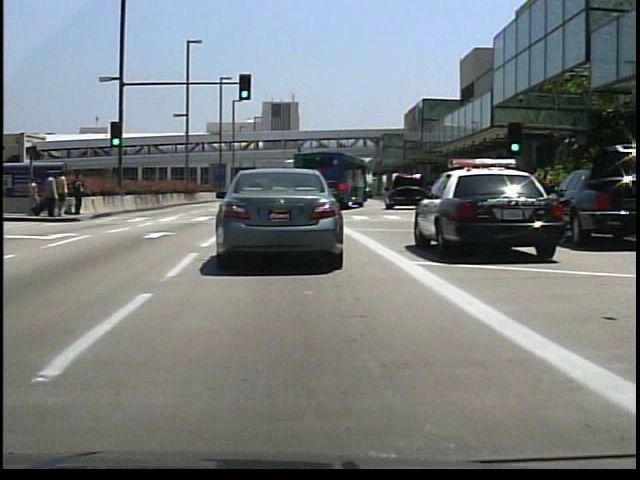person: (68, 171, 86, 218), (23, 174, 42, 215), (43, 171, 59, 218), (56, 171, 70, 219)
